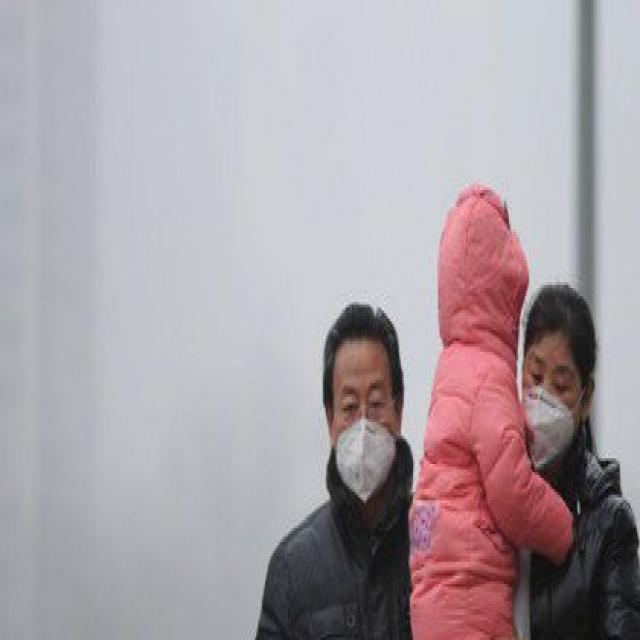mask: (332, 344, 396, 511), (524, 334, 579, 460)
